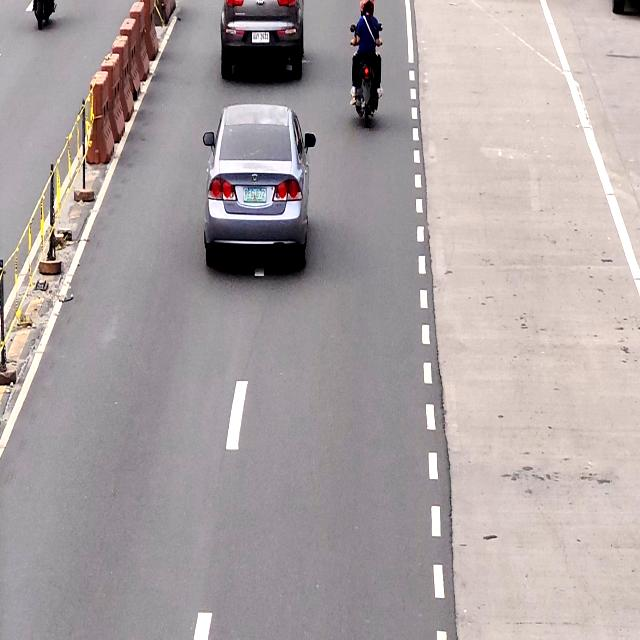Car: (205, 104, 314, 278), (220, 0, 306, 79)
License-Plate: (242, 184, 268, 206), (250, 30, 272, 45)
Motorcycle: (352, 0, 382, 124)
